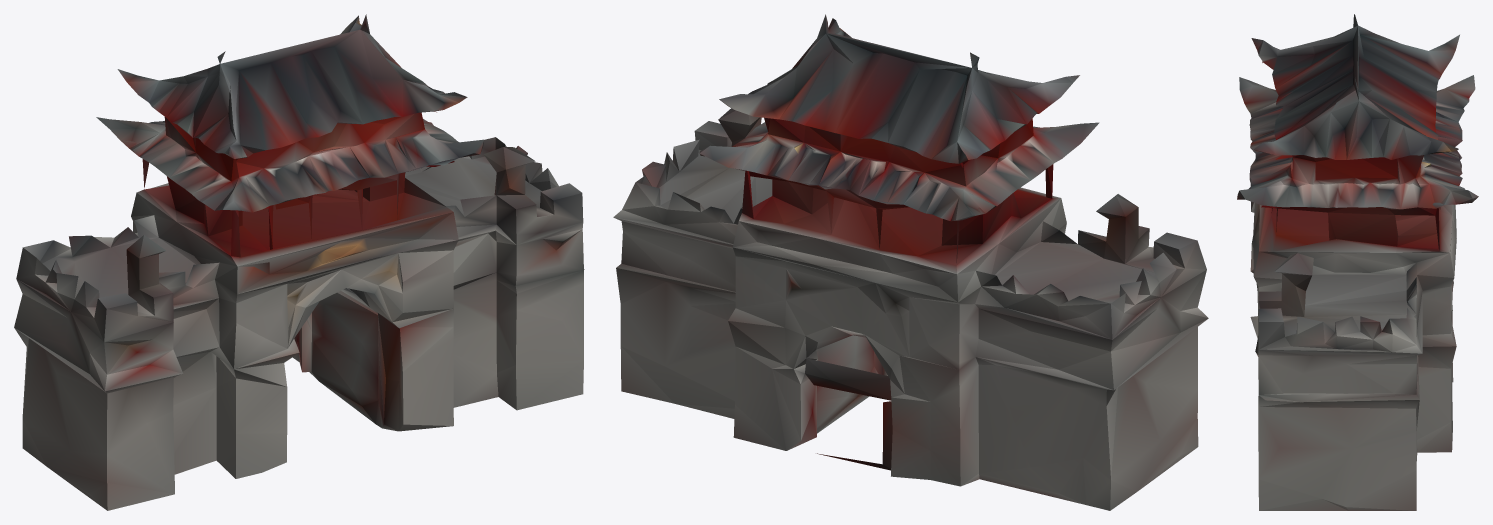
Rendered from city_gate.vc2.glb.
3 views of the same model, side by side, from view 1: azimuth 30°, elevation 25°; view 2: azimuth 150°, elevation 25°; view 3: azimuth 270°, elevation 25° (orthographic). The views are drawn at different scales.
Parts seen in each view (by area): view 1: city_gate; view 2: city_gate; view 3: city_gate.
Part boxes in pixels (x1,y1,x2,y2): city_gate: (14,14,584,510); city_gate: (613,14,1208,510); city_gate: (1237,14,1478,510).
Bounding box in the file's own units: 1.89 × 1.42 × 0.8666.
